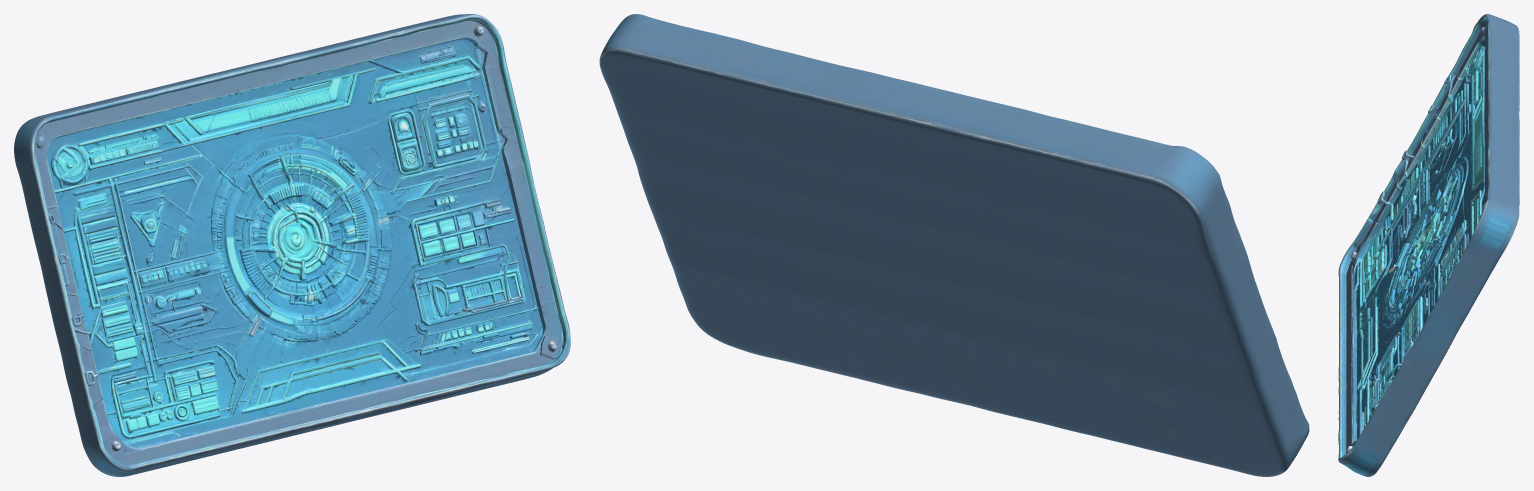
Rendered from holo-display.glb.
3 renders of one model, left to right at view 1: azimuth 30°, elevation 25°; view 2: azimuth 150°, elevation 25°; view 3: azimuth 270°, elevation 25°, orthographic. The views are drawn at different scales.
Parts seen in each view (by area): view 1: tripo_node_3a2718dc-d4f0-4f75-a668-fc9028aedf48; view 2: tripo_node_3a2718dc-d4f0-4f75-a668-fc9028aedf48; view 3: tripo_node_3a2718dc-d4f0-4f75-a668-fc9028aedf48.
Boxes of the visible parts, x1,y1,x2,y2 form: tripo_node_3a2718dc-d4f0-4f75-a668-fc9028aedf48: (14,14,570,476); tripo_node_3a2718dc-d4f0-4f75-a668-fc9028aedf48: (599,14,1309,476); tripo_node_3a2718dc-d4f0-4f75-a668-fc9028aedf48: (1338,14,1519,476).
Bounding box in the file's own units: 0.98 × 0.6152 × 0.3642.
Materials: 1 (1 with a texture image).
